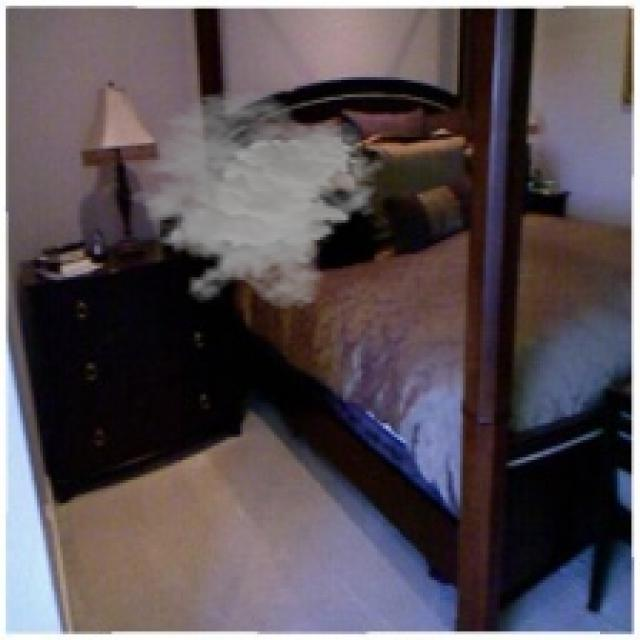smoke: (117, 88, 389, 312)
